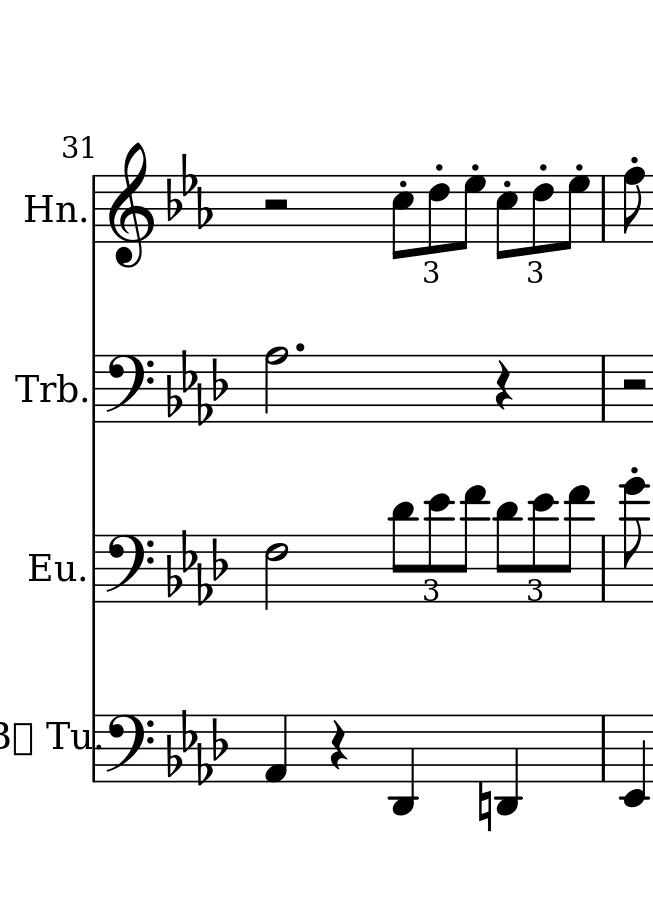1: (80, 133, 94, 160)
2_6: (263, 534, 288, 611)
2_8: (263, 345, 288, 426)
3: (526, 577, 545, 603), (421, 578, 440, 603), (422, 259, 440, 285), (526, 259, 544, 284), (61, 134, 77, 160)
4_-2: (618, 712, 647, 807)
4_-3: (389, 712, 417, 817), (494, 712, 521, 817)
4_1: (262, 713, 289, 784)
8_11: (390, 498, 416, 603), (494, 500, 520, 603)
8_12: (426, 491, 453, 604), (530, 491, 557, 603)
8_13: (457, 483, 487, 605), (562, 484, 591, 603)
8_14: (619, 475, 653, 605)
8_5: (390, 174, 415, 261), (494, 174, 518, 261)
8_6: (426, 174, 450, 256), (530, 174, 553, 257)
8_7: (456, 174, 486, 251), (561, 174, 589, 251)
8_8: (621, 166, 646, 245)
A_F: (165, 348, 228, 426), (166, 531, 228, 609), (165, 708, 227, 785)
E_F: (165, 153, 213, 231)
Fclef: (103, 353, 154, 425), (103, 533, 154, 605), (103, 712, 154, 783)
Gclef: (107, 142, 154, 268)
Hn: (24, 193, 77, 229)
Natural: (476, 780, 493, 832)
Rests2: (260, 196, 291, 215), (619, 376, 649, 393)
Rests4: (493, 359, 514, 413), (327, 719, 348, 773)
Single_barline: (595, 714, 612, 784), (595, 354, 612, 422), (87, 356, 103, 426), (596, 175, 612, 242), (87, 175, 102, 244), (87, 535, 102, 604), (596, 536, 611, 602)
Trb: (14, 365, 77, 408)
dot: (293, 341, 306, 354)
